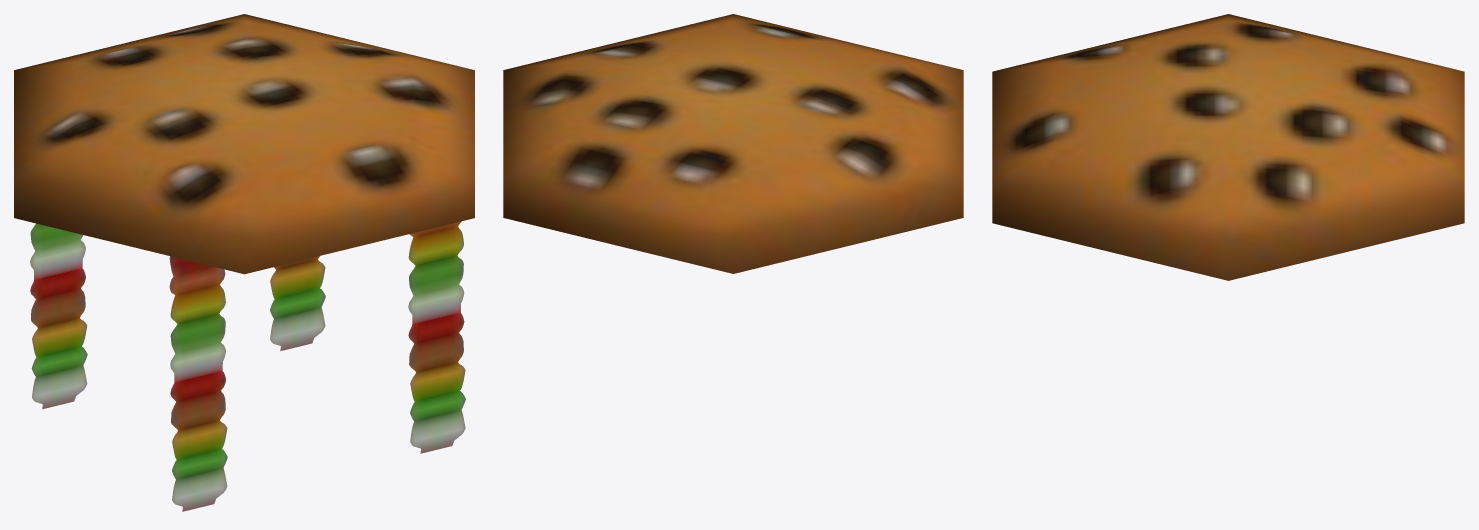
Rendered from cookieTableA.glb.
The picture shows the model from 3 angles, left to right: view 1: azimuth 30°, elevation 25°; view 2: azimuth 150°, elevation 25°; view 3: azimuth 270°, elevation 25°; orthographic projection. The views are drawn at different scales.
Parts seen in each view (by area): view 1: cookie, leg2__billboard, leg3__billboard, leg1__billboard, leg4__billboard; view 2: cookie; view 3: cookie.
Part boxes in pixels (x1,y1,x2,y2): cookie: [14, 14, 474, 274]; leg2__billboard: [169, 256, 227, 511]; leg3__billboard: [408, 221, 465, 453]; leg1__billboard: [30, 223, 87, 409]; leg4__billboard: [270, 256, 325, 350]; cookie: [503, 14, 963, 273]; cookie: [992, 14, 1464, 280].
Size of the model in its own units: 3.74 by 2.61 by 3.24.
Materials: 2 (2 with a texture image).
